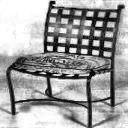chair_success: (2, 0, 128, 128)
